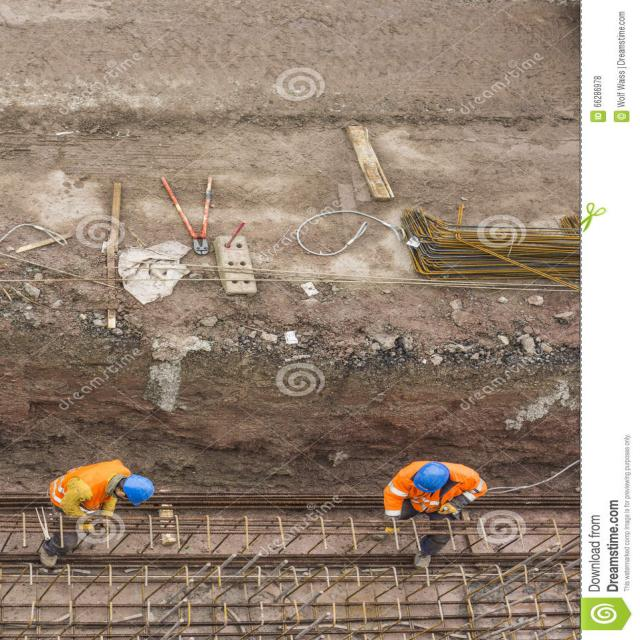Reflective-Jacket: (48, 460, 127, 518), (383, 465, 458, 514)
Safety-Helmet: (414, 462, 449, 490), (123, 474, 155, 504)
